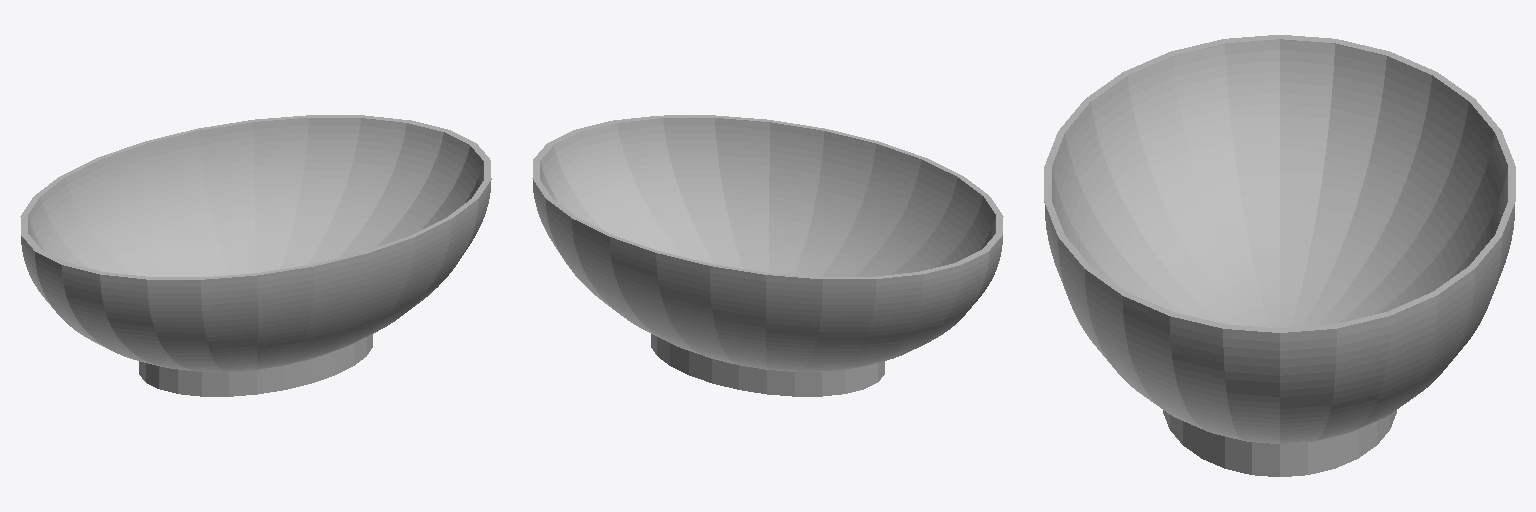
robot.urdf — root:
<robot name="root">
  <link name="link_001">
    <visual>
      <origin xyz="0 0 0" rpy="0 0 0"/>
      <geometry>
        <mesh filename="bowl.obj" scale="1.5000E+00 1.0000E+00 1.0000E+00"/>
      </geometry>
      <material name="">
        <color rgba="7.50E-01 7.50E-01 7.50E-01 1"/>
      </material>
    </visual>
    <collision>
      <origin xyz="0 0 0" rpy="0 0 0"/>
      <geometry>
        <mesh filename="bowl.obj" scale="1.5000E+00 1.0000E+00 1.0000E+00"/>
      </geometry>
    </collision>
    <inertial>
      <mass value="0.16"/> <!-- 质量：0.1kg -->
    </inertial>
  </link>
</robot>

--- Render facts (derived) ---
3 views of the same robot in one strip: view 1: azimuth 30°, elevation 25°; view 2: azimuth 150°, elevation 25°; view 3: azimuth 270°, elevation 25° (orthographic).
Model root with 1 links and 0 joints (none), rooted at link_001, posed all joints at 0.
Links seen in each view (by area): view 1: link_001; view 2: link_001; view 3: link_001.
Boxes of the visible links, bbox=[...] form: link_001: bbox=[20, 115, 491, 396]; link_001: bbox=[532, 115, 1003, 396]; link_001: bbox=[1044, 35, 1515, 476].
Size in the robot's own frame: 0.2234 by 0.149 by 0.0766 metres.
Meshes: 1 distinct files referenced, 1 mesh visuals loaded (1 OBJ).
